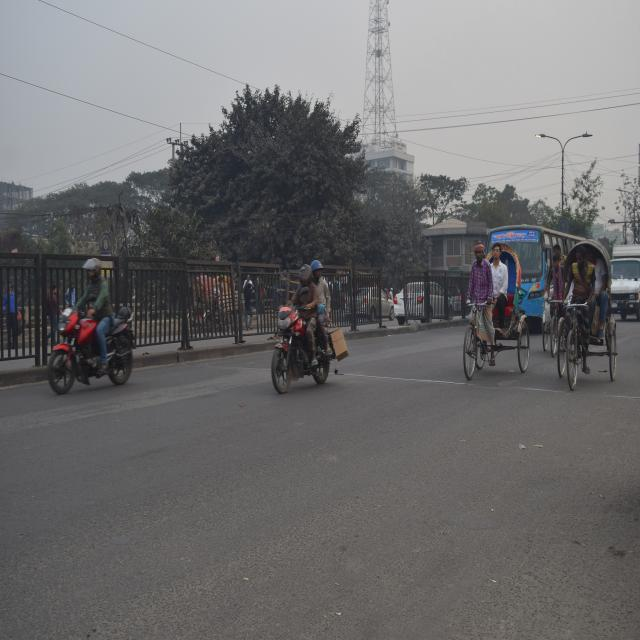bus: (481, 220, 600, 331)
car: (391, 278, 457, 336), (346, 279, 395, 324)
motorbike: (47, 308, 150, 397), (269, 290, 342, 398)
pickup-van: (608, 236, 640, 321)
